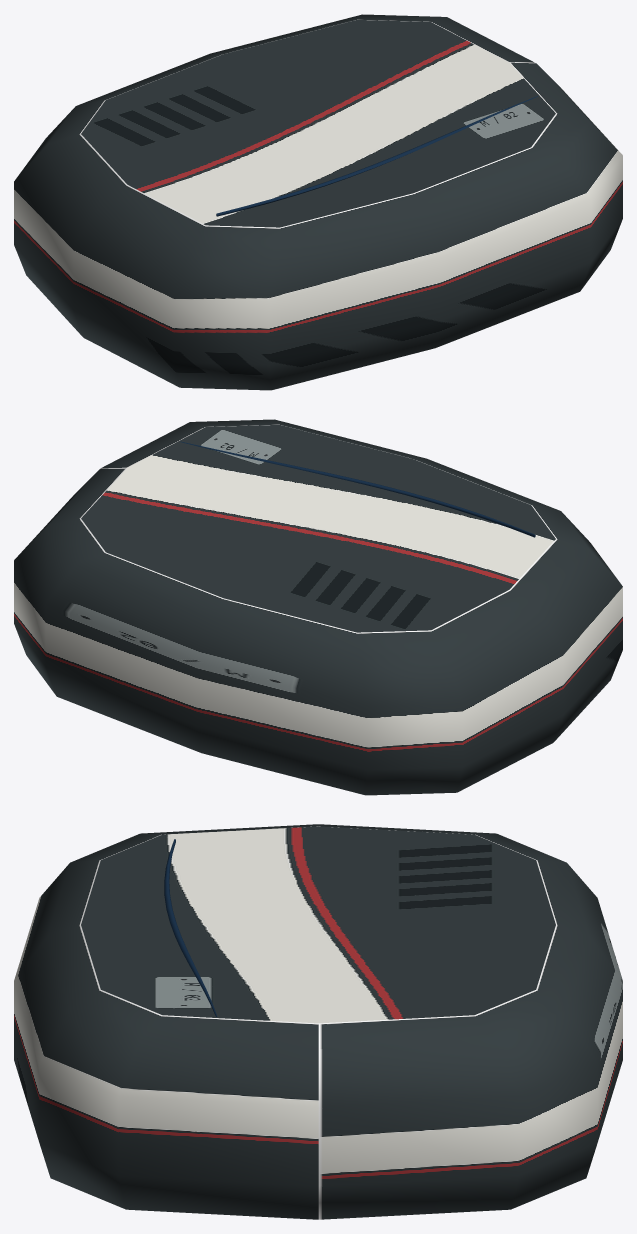
Rendered from MotorCowl_02_N_紺舷・二本線.glb.
The picture shows the model from 3 angles, top to bottom: view 1: azimuth 30°, elevation 25°; view 2: azimuth 150°, elevation 25°; view 3: azimuth 270°, elevation 25°; orthographic projection. The views are drawn at different scales.
Parts seen in each view (by area): view 1: MotorCowl_02_N; view 2: MotorCowl_02_N; view 3: MotorCowl_02_N.
Part boxes in pixels (box(x1,y1,x2,y2)): MotorCowl_02_N: box(14, 14, 622, 390); MotorCowl_02_N: box(14, 419, 622, 795); MotorCowl_02_N: box(14, 824, 622, 1219).
Size of the model in its own units: 0.332 by 0.1188 by 0.286.
Materials: 1 (1 with a texture image).
